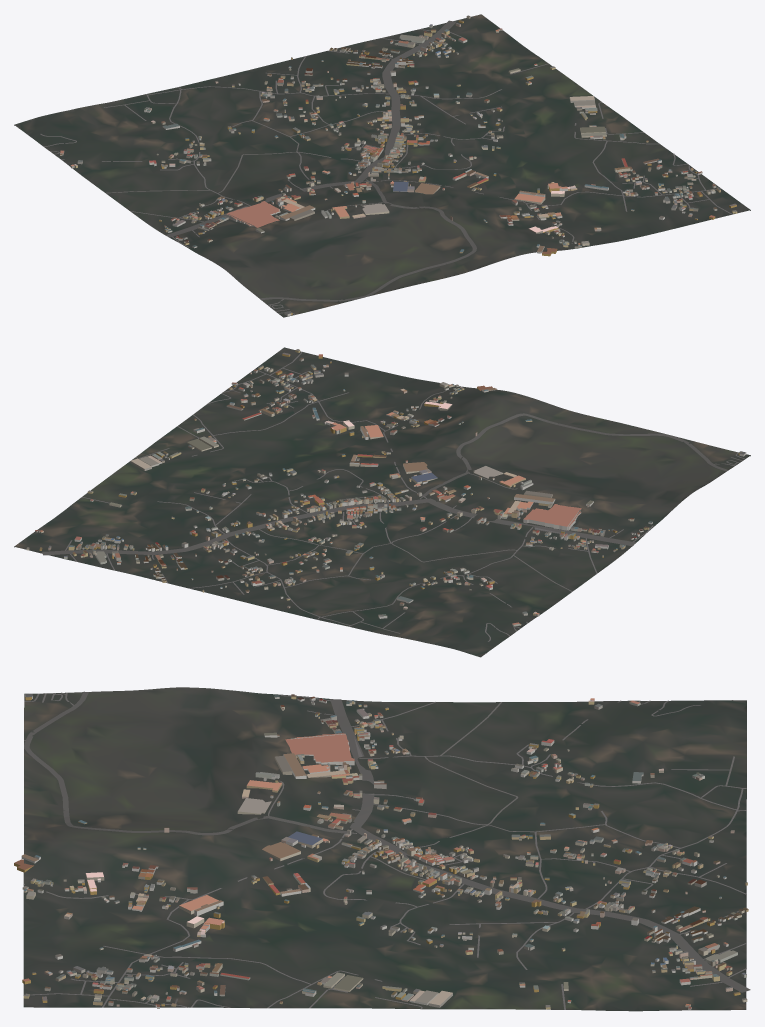
3 views of the same model, one above another, from view 1: azimuth 30°, elevation 25°; view 2: azimuth 150°, elevation 25°; view 3: azimuth 270°, elevation 25° (orthographic). The views are drawn at different scales.
Parts seen in each view (by area): view 1: ground, buildings, roads; view 2: ground, buildings, roads; view 3: ground, buildings, roads.
Part boxes in pixels (left/top/right/bottom): ground: left=14, top=14, right=750, bottom=317; buildings: left=60, top=15, right=737, bottom=316; roads: left=19, top=20, right=733, bottom=314; ground: left=14, top=347, right=750, bottom=657; buildings: left=26, top=349, right=746, bottom=626; roads: left=42, top=351, right=745, bottom=653; ground: left=23, top=687, right=746, bottom=1011; buildings: left=14, top=693, right=748, bottom=1010; roads: left=23, top=691, right=750, bottom=1009.
Size of the model in its own units: 1407 by 51.31 by 1429.
